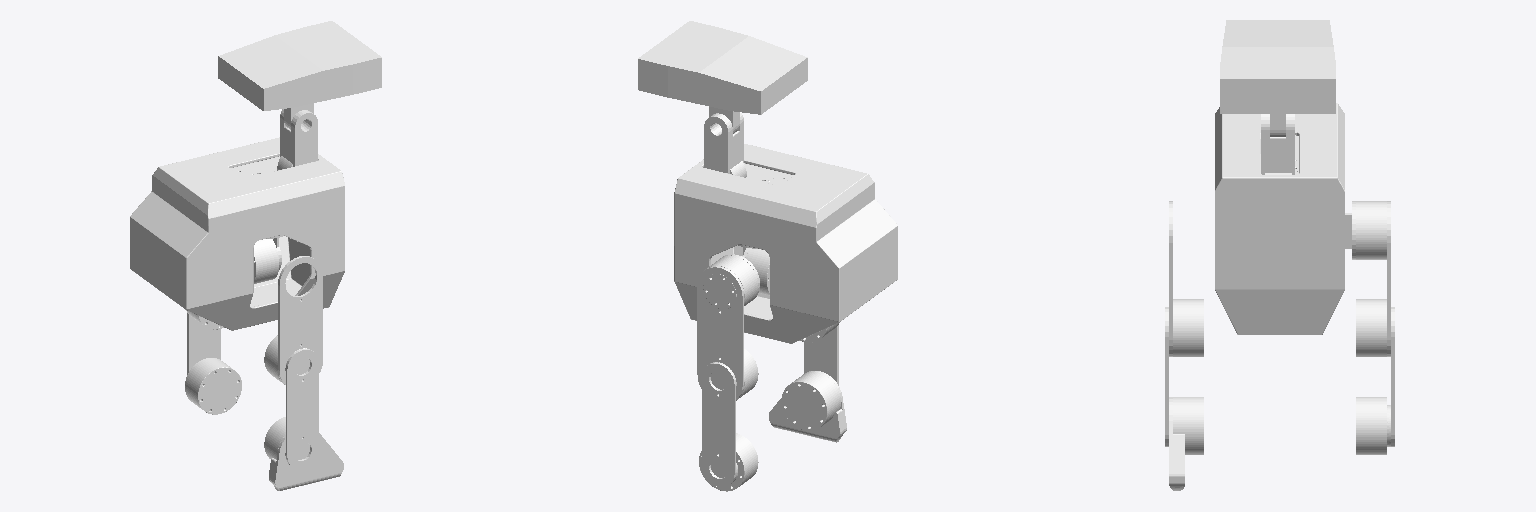
URDF robot description (DuckDuck):
<?xml version="1.0" encoding="utf-8"?>
<!-- This URDF was automatically created by SolidWorks to URDF Exporter! Originally created by [author] ([email redacted]) 
     Commit Version: 1.6.0-4-g7f85cfe  Build Version: 1.6.7995.38578
     For more information, please see http://wiki.ros.org/sw_urdf_exporter -->
<robot
  name="DuckDuck">
  <link
    name="base">
    <inertial>
      <origin
        xyz="-0.0100928530626795 -8.48766786223145E-05 0.0417109438407734"
        rpy="0 0 0" />
      <mass
        value="1.70037419863104" />
      <inertia
        ixx="0.011026305690898"
        ixy="1.15603196843698E-08"
        ixz="0.000185395732857202"
        iyy="0.0172159470283866"
        iyz="-8.11570230509126E-09"
        izz="0.0151809445338661" />
    </inertial>
    <visual>
      <origin
        xyz="0 0 0"
        rpy="0 0 0" />
      <geometry>
        <mesh
          filename="package://DuckDuck/meshes/base.STL" />
      </geometry>
      <material
        name="">
        <color
          rgba="1 1 1 1" />
      </material>
    </visual>
    <collision>
      <origin
        xyz="0 0 0"
        rpy="0 0 0" />
      <geometry>
        <mesh
          filename="package://DuckDuck/meshes/base.STL" />
      </geometry>
    </collision>
  </link>
  <link
    name="left_hip_yaw">
    <inertial>
      <origin
        xyz="-0.0148415027804522 -1.42278207764107E-05 0.00518098759586441"
        rpy="0 0 0" />
      <mass
        value="0.22770651071542" />
      <inertia
        ixx="0.00016064594987398"
        ixy="-1.05844380132887E-08"
        ixz="2.79494697437767E-06"
        iyy="0.000122883197379238"
        iyz="5.01180502056565E-08"
        izz="0.000114845036646105" />
    </inertial>
    <visual>
      <origin
        xyz="0 0 0"
        rpy="0 0 0" />
      <geometry>
        <mesh
          filename="package://DuckDuck/meshes/left_hip_yaw.STL" />
      </geometry>
      <material
        name="">
        <color
          rgba="1 1 1 1" />
      </material>
    </visual>
    <collision>
      <origin
        xyz="0 0 0"
        rpy="0 0 0" />
      <geometry>
        <mesh
          filename="package://DuckDuck/meshes/left_hip_yaw.STL" />
      </geometry>
    </collision>
  </link>
  <joint
    name="left_hip_yaw_joint"
    type="revolute">
    <origin
      xyz="0 0.04 0"
      rpy="0 0 0" />
    <parent
      link="base" />
    <child
      link="left_hip_yaw" />
    <axis
      xyz="0 0 1" />
    <limit
      lower="0"
      upper="0"
      effort="0"
      velocity="0" />
  </joint>
  <link
    name="left_hip_roll">
    <inertial>
      <origin
        xyz="0.000168686556307626 0.0732538542750958 -1.42428991109084E-05"
        rpy="0 0 0" />
      <mass
        value="0.22746544778837" />
      <inertia
        ixx="0.000139061664775468"
        ixy="9.72203682012484E-07"
        ixz="-3.27718468280349E-09"
        iyy="0.000154215112847962"
        iyz="5.578633543099E-08"
        izz="0.000132221036670331" />
    </inertial>
    <visual>
      <origin
        xyz="0 0 0"
        rpy="0 0 0" />
      <geometry>
        <mesh
          filename="package://DuckDuck/meshes/left_hip_roll.STL" />
      </geometry>
      <material
        name="">
        <color
          rgba="1 1 1 1" />
      </material>
    </visual>
    <collision>
      <origin
        xyz="0 0 0"
        rpy="0 0 0" />
      <geometry>
        <mesh
          filename="package://DuckDuck/meshes/left_hip_roll.STL" />
      </geometry>
    </collision>
  </link>
  <joint
    name="left_hip_roll_joint"
    type="revolute">
    <origin
      xyz="0 0 0"
      rpy="0 0 0" />
    <parent
      link="left_hip_yaw" />
    <child
      link="left_hip_roll" />
    <axis
      xyz="1 0 0" />
    <limit
      lower="0"
      upper="0"
      effort="0"
      velocity="0" />
  </joint>
  <link
    name="left_hip_pitch">
    <inertial>
      <origin
        xyz="-2.1854845288882E-16 0.0845594117245168 -0.125225619873394"
        rpy="0 0 0" />
      <mass
        value="0.24023854356995" />
      <inertia
        ixx="0.000225138484662056"
        ixy="9.53108124210592E-22"
        ixz="-1.34600092260421E-19"
        iyy="0.000288595828376715"
        iyz="3.53759497379051E-20"
        izz="0.000123129101652142" />
    </inertial>
    <visual>
      <origin
        xyz="0 0 0"
        rpy="0 0 0" />
      <geometry>
        <mesh
          filename="package://DuckDuck/meshes/left_hip_pitch.STL" />
      </geometry>
      <material
        name="">
        <color
          rgba="1 1 1 1" />
      </material>
    </visual>
    <collision>
      <origin
        xyz="0 0 0"
        rpy="0 0 0" />
      <geometry>
        <mesh
          filename="package://DuckDuck/meshes/left_hip_pitch.STL" />
      </geometry>
    </collision>
  </link>
  <joint
    name="left_hip_pitch_joint"
    type="revolute">
    <origin
      xyz="0 0 0"
      rpy="0 0 0" />
    <parent
      link="left_hip_roll" />
    <child
      link="left_hip_pitch" />
    <axis
      xyz="0 1 0" />
    <limit
      lower="0"
      upper="0"
      effort="0"
      velocity="0" />
  </joint>
  <link
    name="left_knee_pitch">
    <inertial>
      <origin
        xyz="-1.9169709838289E-16 -0.00857325265941816 -0.127010278601144"
        rpy="0 0 0" />
      <mass
        value="0.232718078417979" />
      <inertia
        ixx="0.000202660360914128"
        ixy="3.87937677644539E-21"
        ixz="-1.28952471042899E-19"
        iyy="0.000249803523853592"
        iyz="4.27797624204847E-20"
        izz="0.000106783585605481" />
    </inertial>
    <visual>
      <origin
        xyz="0 0 0"
        rpy="0 0 0" />
      <geometry>
        <mesh
          filename="package://DuckDuck/meshes/left_knee_pitch.STL" />
      </geometry>
      <material
        name="">
        <color
          rgba="1 1 1 1" />
      </material>
    </visual>
    <collision>
      <origin
        xyz="0 0 0"
        rpy="0 0 0" />
      <geometry>
        <mesh
          filename="package://DuckDuck/meshes/left_knee_pitch.STL" />
      </geometry>
    </collision>
  </link>
  <joint
    name="left_knee_pitch_joint"
    type="revolute">
    <origin
      xyz="0 0.0936181760425075 -0.14"
      rpy="0 0 0" />
    <parent
      link="left_hip_pitch" />
    <child
      link="left_knee_pitch" />
    <axis
      xyz="0 1 0" />
    <limit
      lower="0"
      upper="0"
      effort="0"
      velocity="0" />
  </joint>
  <link
    name="left_ankle_pitch">
    <inertial>
      <origin
        xyz="0.0165320915802278 0.000878638979678131 -0.0350036570544408"
        rpy="0 0 0" />
      <mass
        value="0.0934205516990419" />
      <inertia
        ixx="4.08203466514557E-05"
        ixy="1.35770948841668E-06"
        ixz="3.73111146640662E-07"
        iyy="0.000143785268215984"
        iyz="-2.85203021993324E-06"
        izz="0.000109322370322001" />
    </inertial>
    <visual>
      <origin
        xyz="0 0 0"
        rpy="0 0 0" />
      <geometry>
        <mesh
          filename="package://DuckDuck/meshes/left_ankle_pitch.STL" />
      </geometry>
      <material
        name="">
        <color
          rgba="1 1 1 1" />
      </material>
    </visual>
    <collision>
      <origin
        xyz="0 0 0"
        rpy="0 0 0" />
      <geometry>
        <mesh
          filename="package://DuckDuck/meshes/left_ankle_pitch.STL" />
      </geometry>
    </collision>
  </link>
  <joint
    name="left_ankle_pitch_joint"
    type="revolute">
    <origin
      xyz="0 0 -0.14"
      rpy="0 0 0" />
    <parent
      link="left_knee_pitch" />
    <child
      link="left_ankle_pitch" />
    <axis
      xyz="0 1 0" />
    <limit
      lower="0"
      upper="0"
      effort="0"
      velocity="0" />
  </joint>
  <link
    name="right_hip_yaw">
    <inertial>
      <origin
        xyz="-0.0148415027804522 -1.4227820776147E-05 0.00518098759586436"
        rpy="0 0 0" />
      <mass
        value="0.22770651071542" />
      <inertia
        ixx="0.00016064594987398"
        ixy="-1.05844380133239E-08"
        ixz="2.79494697437761E-06"
        iyy="0.000122883197379238"
        iyz="5.01180502056588E-08"
        izz="0.000114845036646105" />
    </inertial>
    <visual>
      <origin
        xyz="0 0 0"
        rpy="0 0 0" />
      <geometry>
        <mesh
          filename="package://DuckDuck/meshes/right_hip_yaw.STL" />
      </geometry>
      <material
        name="">
        <color
          rgba="1 1 1 1" />
      </material>
    </visual>
    <collision>
      <origin
        xyz="0 0 0"
        rpy="0 0 0" />
      <geometry>
        <mesh
          filename="package://DuckDuck/meshes/right_hip_yaw.STL" />
      </geometry>
    </collision>
  </link>
  <joint
    name="right_hip_yaw_joint"
    type="revolute">
    <origin
      xyz="0 -0.04 0"
      rpy="0 0 0" />
    <parent
      link="base" />
    <child
      link="right_hip_yaw" />
    <axis
      xyz="0 0 1" />
    <limit
      lower="0"
      upper="0"
      effort="0"
      velocity="0" />
  </joint>
  <link
    name="right_hip_roll">
    <inertial>
      <origin
        xyz="0.000168686556307084 -0.073253854275096 1.42428991107002E-05"
        rpy="0 0 0" />
      <mass
        value="0.22746544778837" />
      <inertia
        ixx="0.000139061664775468"
        ixy="-9.72203682012507E-07"
        ixz="3.27718468277944E-09"
        iyy="0.000154215112847962"
        iyz="5.57863354310647E-08"
        izz="0.000132221036670331" />
    </inertial>
    <visual>
      <origin
        xyz="0 0 0"
        rpy="0 0 0" />
      <geometry>
        <mesh
          filename="package://DuckDuck/meshes/right_hip_roll.STL" />
      </geometry>
      <material
        name="">
        <color
          rgba="1 1 1 1" />
      </material>
    </visual>
    <collision>
      <origin
        xyz="0 0 0"
        rpy="0 0 0" />
      <geometry>
        <mesh
          filename="package://DuckDuck/meshes/right_hip_roll.STL" />
      </geometry>
    </collision>
  </link>
  <joint
    name="right_hip_roll_joint"
    type="revolute">
    <origin
      xyz="0 0 0"
      rpy="0 0 0" />
    <parent
      link="right_hip_yaw" />
    <child
      link="right_hip_roll" />
    <axis
      xyz="1 0 0" />
    <limit
      lower="0"
      upper="0"
      effort="0"
      velocity="0" />
  </joint>
  <link
    name="right_hip_pitch">
    <inertial>
      <origin
        xyz="9.80659937259572E-17 -0.0845594117245176 -0.125225619873394"
        rpy="0 0 0" />
      <mass
        value="0.24023854356995" />
      <inertia
        ixx="0.000225138484662056"
        ixy="-5.10216785538961E-20"
        ixz="-1.59756425112216E-19"
        iyy="0.000288595828376715"
        iyz="-2.4227586952317E-20"
        izz="0.000123129101652142" />
    </inertial>
    <visual>
      <origin
        xyz="0 0 0"
        rpy="0 0 0" />
      <geometry>
        <mesh
          filename="package://DuckDuck/meshes/right_hip_pitch.STL" />
      </geometry>
      <material
        name="">
        <color
          rgba="1 1 1 1" />
      </material>
    </visual>
    <collision>
      <origin
        xyz="0 0 0"
        rpy="0 0 0" />
      <geometry>
        <mesh
          filename="package://DuckDuck/meshes/right_hip_pitch.STL" />
      </geometry>
    </collision>
  </link>
  <joint
    name="right_hip_pitch_joint"
    type="revolute">
    <origin
      xyz="0 0 0"
      rpy="0 0 0" />
    <parent
      link="right_hip_roll" />
    <child
      link="right_hip_pitch" />
    <axis
      xyz="0 -1 0" />
    <limit
      lower="0"
      upper="0"
      effort="0"
      velocity="0" />
  </joint>
  <link
    name="right_knee_pitch">
    <inertial>
      <origin
        xyz="-1.85737083378316E-16 0.00857325265941841 -0.127010278601144"
        rpy="0 0 0" />
      <mass
        value="0.232718078417979" />
      <inertia
        ixx="0.000202660360914127"
        ixy="-3.4191708323686E-20"
        ixz="-1.53618567240911E-19"
        iyy="0.000249803523853592"
        iyz="2.62948010064838E-20"
        izz="0.000106783585605481" />
    </inertial>
    <visual>
      <origin
        xyz="0 0 0"
        rpy="0 0 0" />
      <geometry>
        <mesh
          filename="package://DuckDuck/meshes/right_knee_pitch.STL" />
      </geometry>
      <material
        name="">
        <color
          rgba="1 1 1 1" />
      </material>
    </visual>
    <collision>
      <origin
        xyz="0 0 0"
        rpy="0 0 0" />
      <geometry>
        <mesh
          filename="package://DuckDuck/meshes/right_knee_pitch.STL" />
      </geometry>
    </collision>
  </link>
  <joint
    name="right_knee_pitch_joint"
    type="revolute">
    <origin
      xyz="0 -0.0936181760425084 -0.14"
      rpy="0 0 0" />
    <parent
      link="right_hip_pitch" />
    <child
      link="right_knee_pitch" />
    <axis
      xyz="0 -1 0" />
    <limit
      lower="0"
      upper="0"
      effort="0"
      velocity="0" />
  </joint>
  <link
    name="right_ankle_pitch">
    <inertial>
      <origin
        xyz="0.0165320706873633 -0.000878627774280077 -0.0350036769927607"
        rpy="0 0 0" />
      <mass
        value="0.0934206054212803" />
      <inertia
        ixx="4.08203779126198E-05"
        ixy="-1.35771959946846E-06"
        ixz="3.73028599539108E-07"
        iyy="0.00014378533207983"
        iyz="2.85193277907882E-06"
        izz="0.000109322408669691" />
    </inertial>
    <visual>
      <origin
        xyz="0 0 0"
        rpy="0 0 0" />
      <geometry>
        <mesh
          filename="package://DuckDuck/meshes/right_ankle_pitch.STL" />
      </geometry>
      <material
        name="">
        <color
          rgba="1 1 1 1" />
      </material>
    </visual>
    <collision>
      <origin
        xyz="0 0 0"
        rpy="0 0 0" />
      <geometry>
        <mesh
          filename="package://DuckDuck/meshes/right_ankle_pitch.STL" />
      </geometry>
    </collision>
  </link>
  <joint
    name="right_ankle_pitch_joint"
    type="revolute">
    <origin
      xyz="0 0 -0.14"
      rpy="0 0 0" />
    <parent
      link="right_knee_pitch" />
    <child
      link="right_ankle_pitch" />
    <axis
      xyz="0 -1 0" />
    <limit
      lower="0"
      upper="0"
      effort="0"
      velocity="0" />
  </joint>
  <link
    name="neck_pitch1">
    <inertial>
      <origin
        xyz="-4.16333634234434E-17 -0.00249999999999998 0.0510454762534523"
        rpy="0 0 0" />
      <mass
        value="0.10052370093748" />
      <inertia
        ixx="6.47635325993599E-05"
        ixy="1.98956536096706E-20"
        ixz="-3.1570869978831E-20"
        iyy="5.84221247072049E-05"
        iyz="-7.6727683019986E-21"
        izz="3.58020171039593E-05" />
    </inertial>
    <visual>
      <origin
        xyz="0 0 0"
        rpy="0 0 0" />
      <geometry>
        <mesh
          filename="package://DuckDuck/meshes/neck_pitch1.STL" />
      </geometry>
      <material
        name="">
        <color
          rgba="1 1 1 1" />
      </material>
    </visual>
    <collision>
      <origin
        xyz="0 0 0"
        rpy="0 0 0" />
      <geometry>
        <mesh
          filename="package://DuckDuck/meshes/neck_pitch1.STL" />
      </geometry>
    </collision>
  </link>
  <joint
    name="neck_pitch1_joint"
    type="revolute">
    <origin
      xyz="0.0774999999999999 0 0.108874586088177"
      rpy="0 0 0" />
    <parent
      link="base" />
    <child
      link="neck_pitch1" />
    <axis
      xyz="0 1 0" />
    <limit
      lower="0"
      upper="0"
      effort="0"
      velocity="0" />
  </joint>
  <link
    name="neck_pitch2">
    <inertial>
      <origin
        xyz="0.00575865504438706 -0.00249999999999993 0.0819986207442349"
        rpy="0 0 0" />
      <mass
        value="1.42018144140995" />
      <inertia
        ixx="0.00267437236982675"
        ixy="-6.51939881580211E-18"
        ixz="-6.35777999085746E-05"
        iyy="0.00462154299939655"
        iyz="7.23397178913587E-19"
        izz="0.00672091269381809" />
    </inertial>
    <visual>
      <origin
        xyz="0 0 0"
        rpy="0 0 0" />
      <geometry>
        <mesh
          filename="package://DuckDuck/meshes/neck_pitch2.STL" />
      </geometry>
      <material
        name="">
        <color
          rgba="1 1 1 1" />
      </material>
    </visual>
    <collision>
      <origin
        xyz="0 0 0"
        rpy="0 0 0" />
      <geometry>
        <mesh
          filename="package://DuckDuck/meshes/neck_pitch2.STL" />
      </geometry>
    </collision>
  </link>
  <joint
    name="neck_pitch2_joint"
    type="revolute">
    <origin
      xyz="0 0 0.08"
      rpy="0 0 0" />
    <parent
      link="neck_pitch1" />
    <child
      link="neck_pitch2" />
    <axis
      xyz="0 -1 0" />
    <limit
      lower="0"
      upper="0"
      effort="0"
      velocity="0" />
  </joint>
</robot>

--- Render facts (derived) ---
The picture shows the robot from 3 angles, left to right: view 1: azimuth 30°, elevation 25°; view 2: azimuth 150°, elevation 25°; view 3: azimuth 270°, elevation 25°; orthographic projection.
Model DuckDuck with 13 links and 12 joints (12 revolute), rooted at base, posed all joints at 0.
Visible links, largest first — view 1: base, neck_pitch2, right_hip_pitch, right_knee_pitch, left_knee_pitch, right_ankle_pitch, neck_pitch1, right_hip_yaw; view 2: base, neck_pitch2, left_knee_pitch, left_hip_pitch, right_knee_pitch, left_hip_roll, neck_pitch1, right_ankle_pitch, left_hip_yaw; view 3: base, neck_pitch2, left_knee_pitch, left_hip_pitch, right_hip_pitch, left_hip_roll, right_knee_pitch, neck_pitch1, right_ankle_pitch.
Boxes of the visible links, box(x1,y1,x2,y2) form: base: box(130, 137, 344, 330); neck_pitch2: box(218, 21, 381, 129); right_hip_pitch: box(264, 256, 322, 384); right_knee_pitch: box(264, 348, 318, 468); left_knee_pitch: box(185, 313, 241, 414); right_ankle_pitch: box(269, 433, 343, 490); neck_pitch1: box(280, 109, 317, 166); right_hip_yaw: box(254, 235, 282, 283); base: box(674, 144, 897, 343); neck_pitch2: box(638, 21, 807, 133); left_knee_pitch: box(699, 362, 758, 491); left_hip_pitch: box(697, 266, 758, 400); right_knee_pitch: box(782, 325, 840, 430); left_hip_roll: box(703, 248, 759, 308); neck_pitch1: box(704, 112, 743, 173); right_ankle_pitch: box(769, 371, 846, 442); left_hip_yaw: box(738, 245, 769, 295); base: box(1215, 103, 1344, 334); neck_pitch2: box(1220, 20, 1335, 136); left_knee_pitch: box(1356, 307, 1394, 454); left_hip_pitch: box(1356, 201, 1390, 356); right_hip_pitch: box(1169, 201, 1203, 356); left_hip_roll: box(1345, 201, 1386, 259); right_knee_pitch: box(1165, 307, 1203, 454); neck_pitch1: box(1261, 114, 1294, 174); right_ankle_pitch: box(1169, 397, 1184, 490).
Bounding box of the posed robot: 0.3415 × 0.2982 × 0.6413 m (x, y, z).
Meshes: 13 distinct files referenced, 11 mesh visuals loaded (11 binary STL); not drawn: 2 (reference not matched to a file when rendering).
